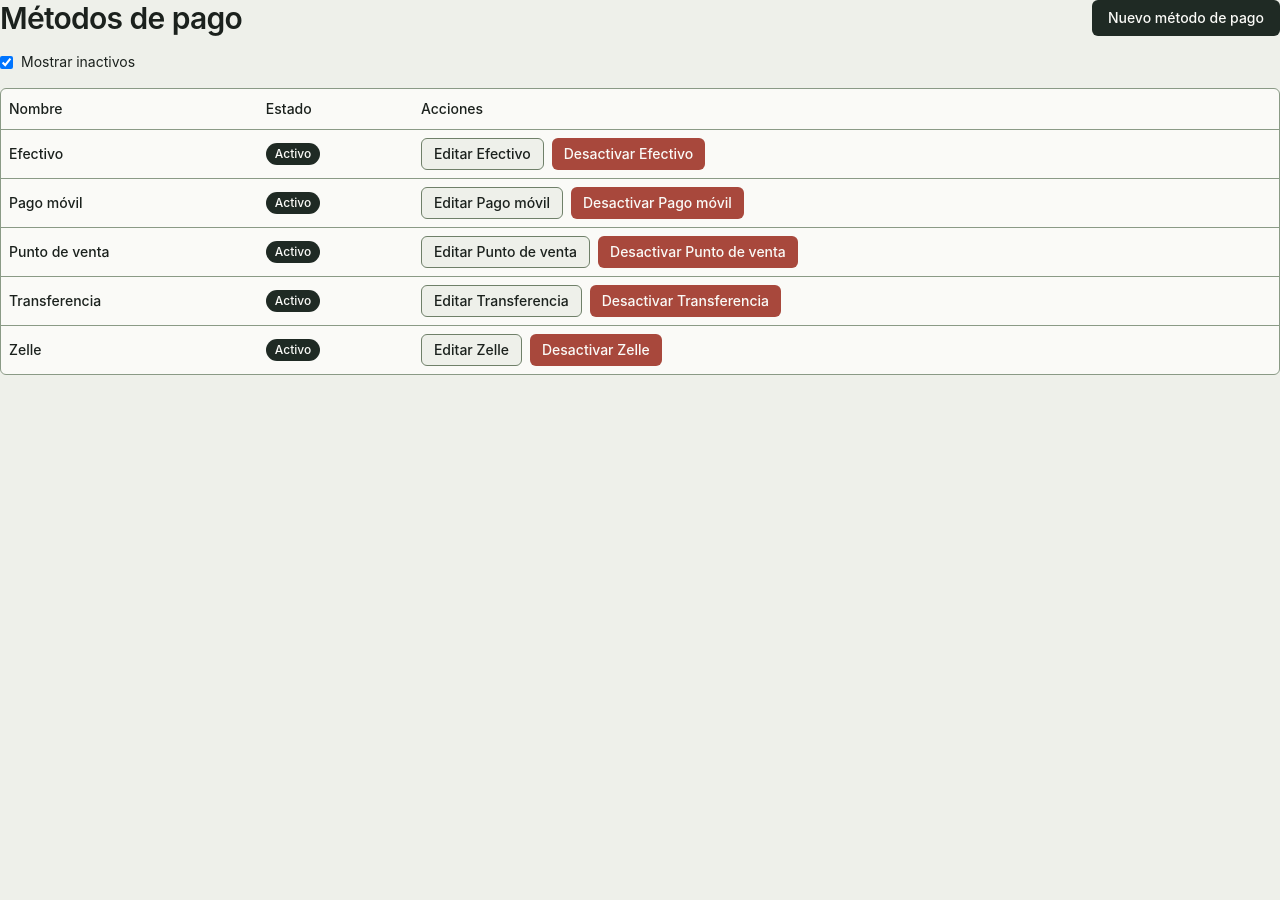
Scenario: PaymentMethodsPage › edita un método con su nombre precargado
Expected: the row "Efectivo Activo Editar Efectivo Desactivar Efectivo" is shown, [1, 130, 1279, 178]
Click the button "Editar Efectivo".
click(482, 154)  # box [421, 138, 544, 170]
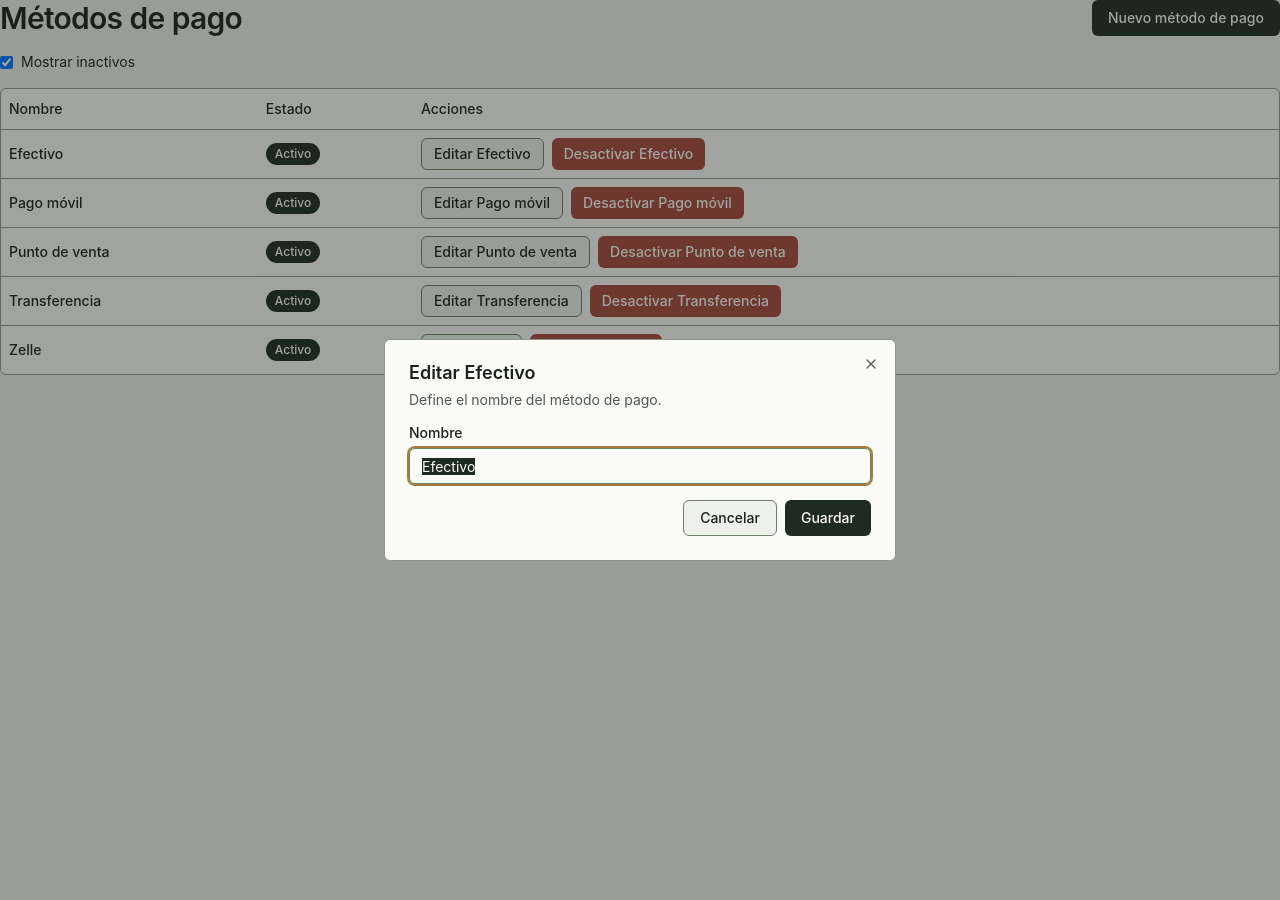
Result: the field labelled "Nombre" holds "Efectivo"
Replace the text in the field labelled "Nombre" with "Efectivo USD" at (640, 466), box [409, 448, 871, 484]
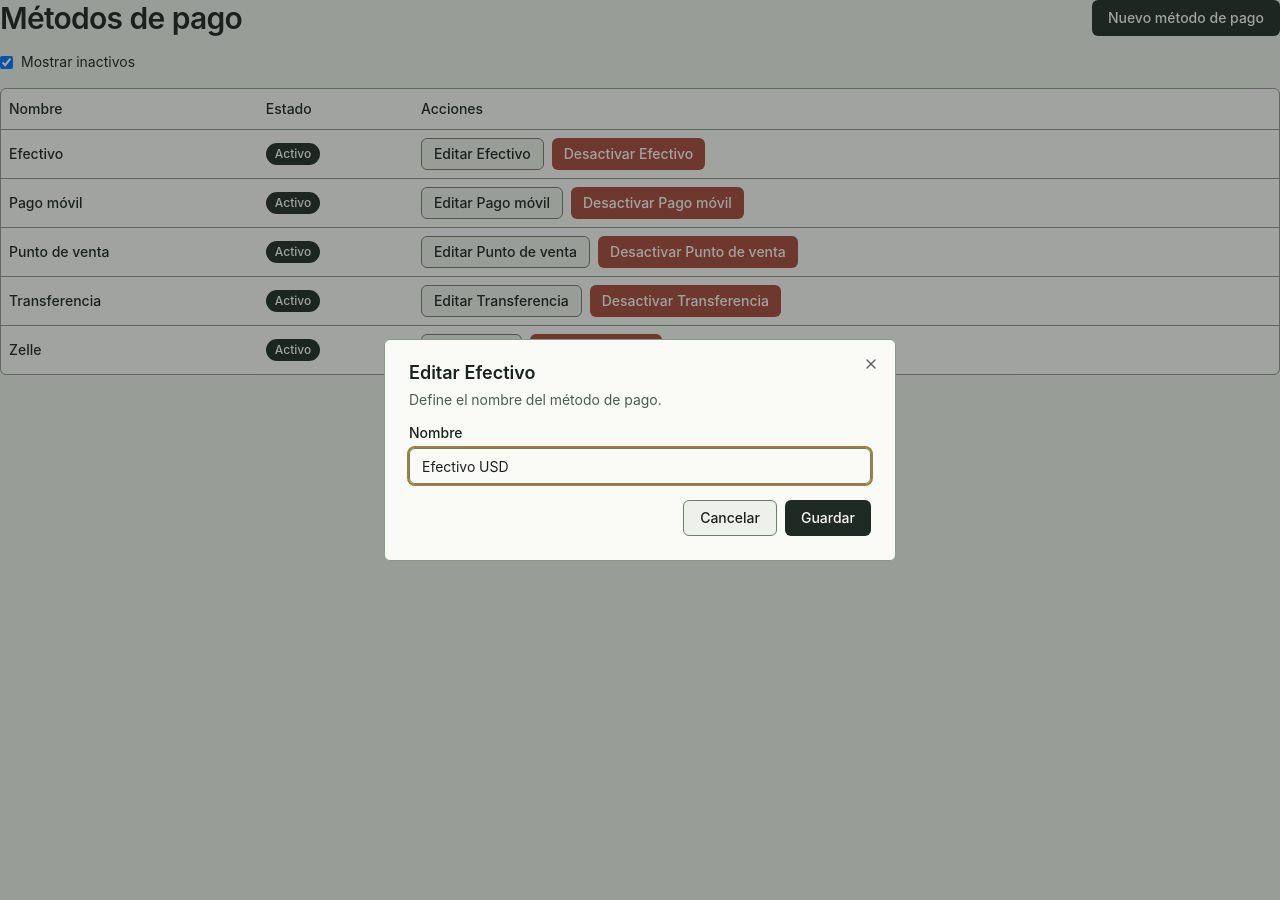
Click the button "Guardar".
click(828, 518)  # box [785, 500, 871, 536]
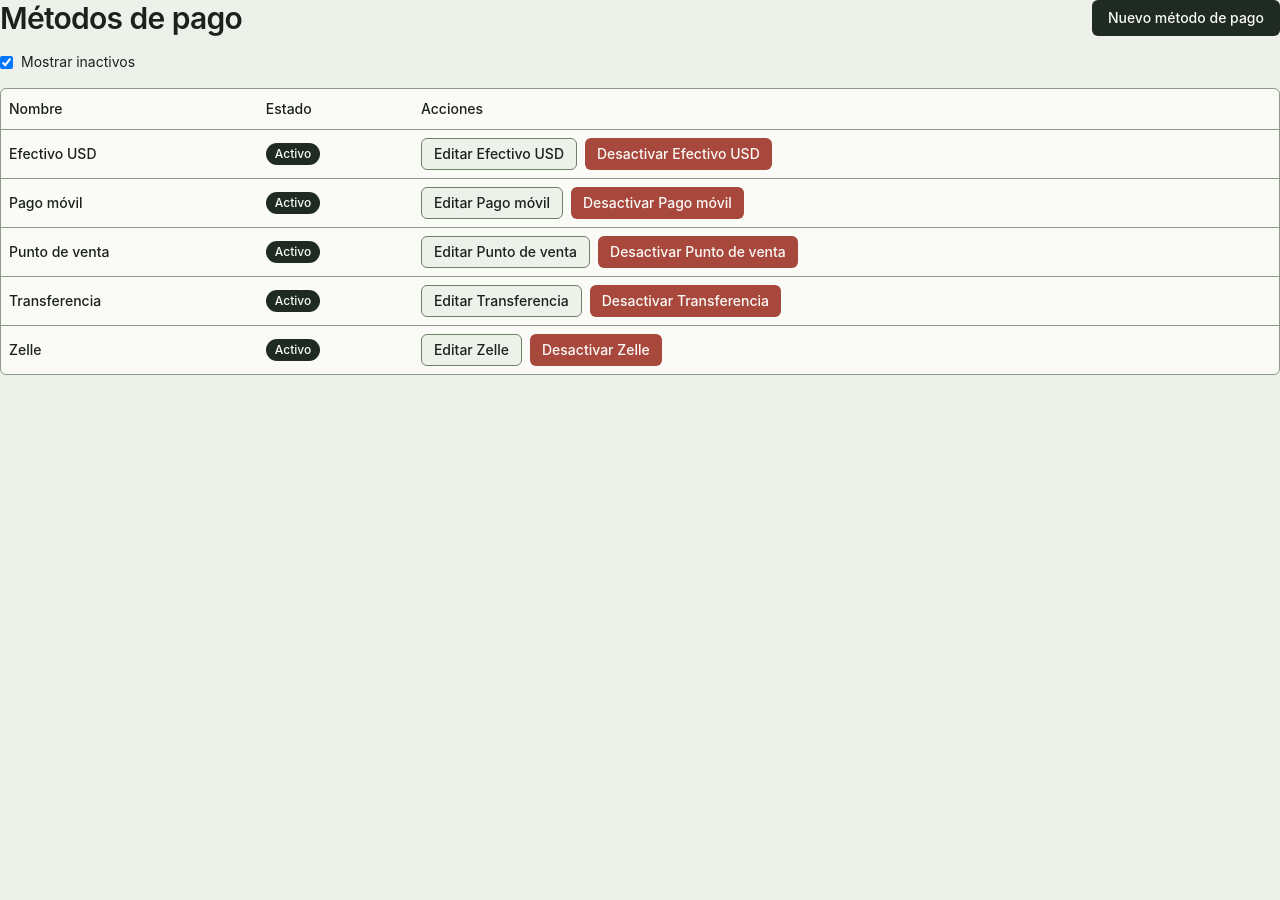
Result: the row "Efectivo USD" is shown at [1, 130, 1279, 178]
Result: the cell "Efectivo USD" is shown at [1, 130, 258, 178]
